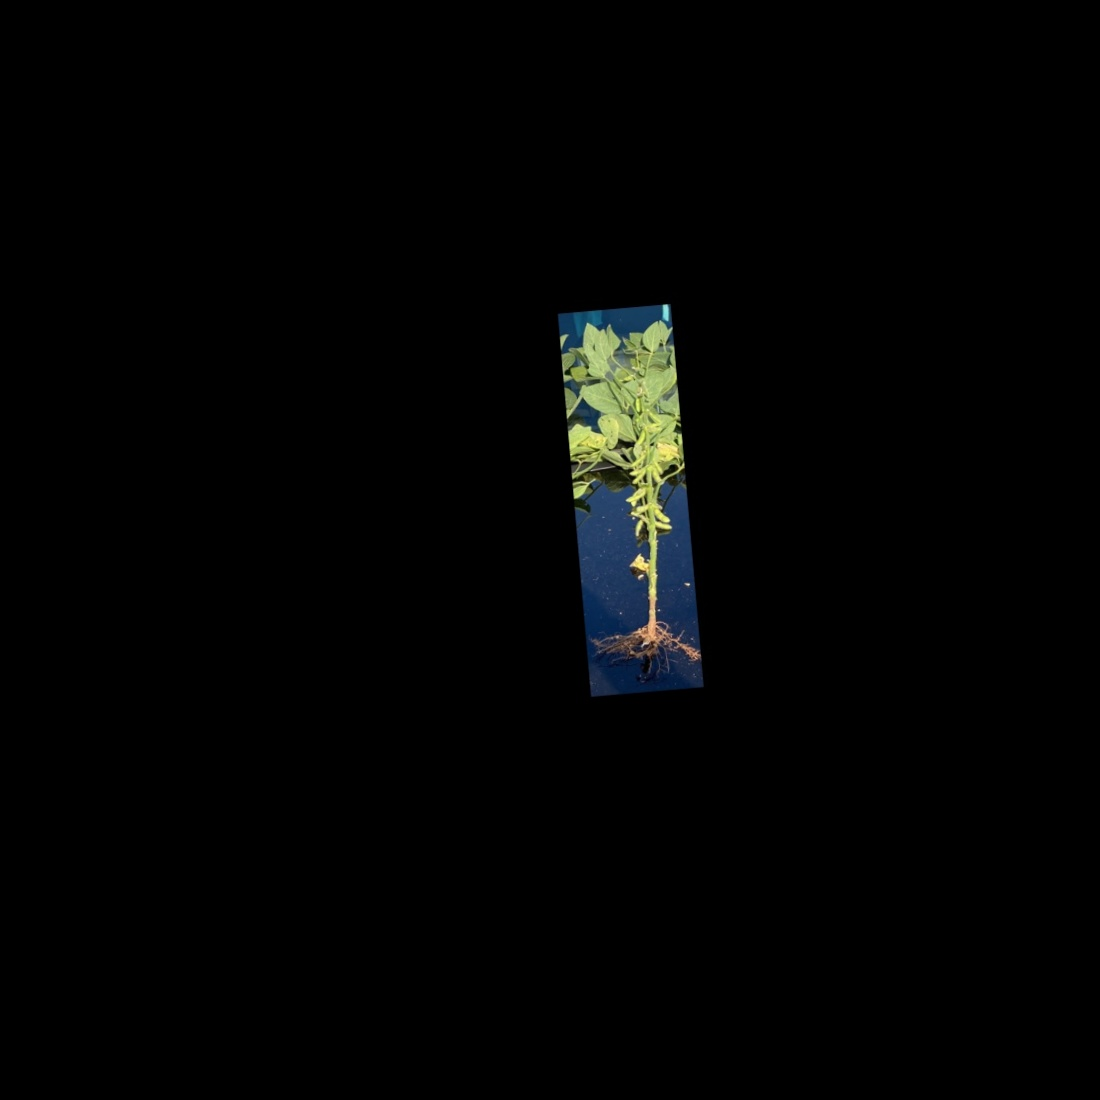pod: (626, 464, 653, 487), (625, 450, 650, 468), (651, 504, 671, 526), (652, 516, 676, 533), (624, 464, 649, 478), (632, 427, 648, 447), (633, 395, 642, 413)
soy: (561, 320, 700, 677)
